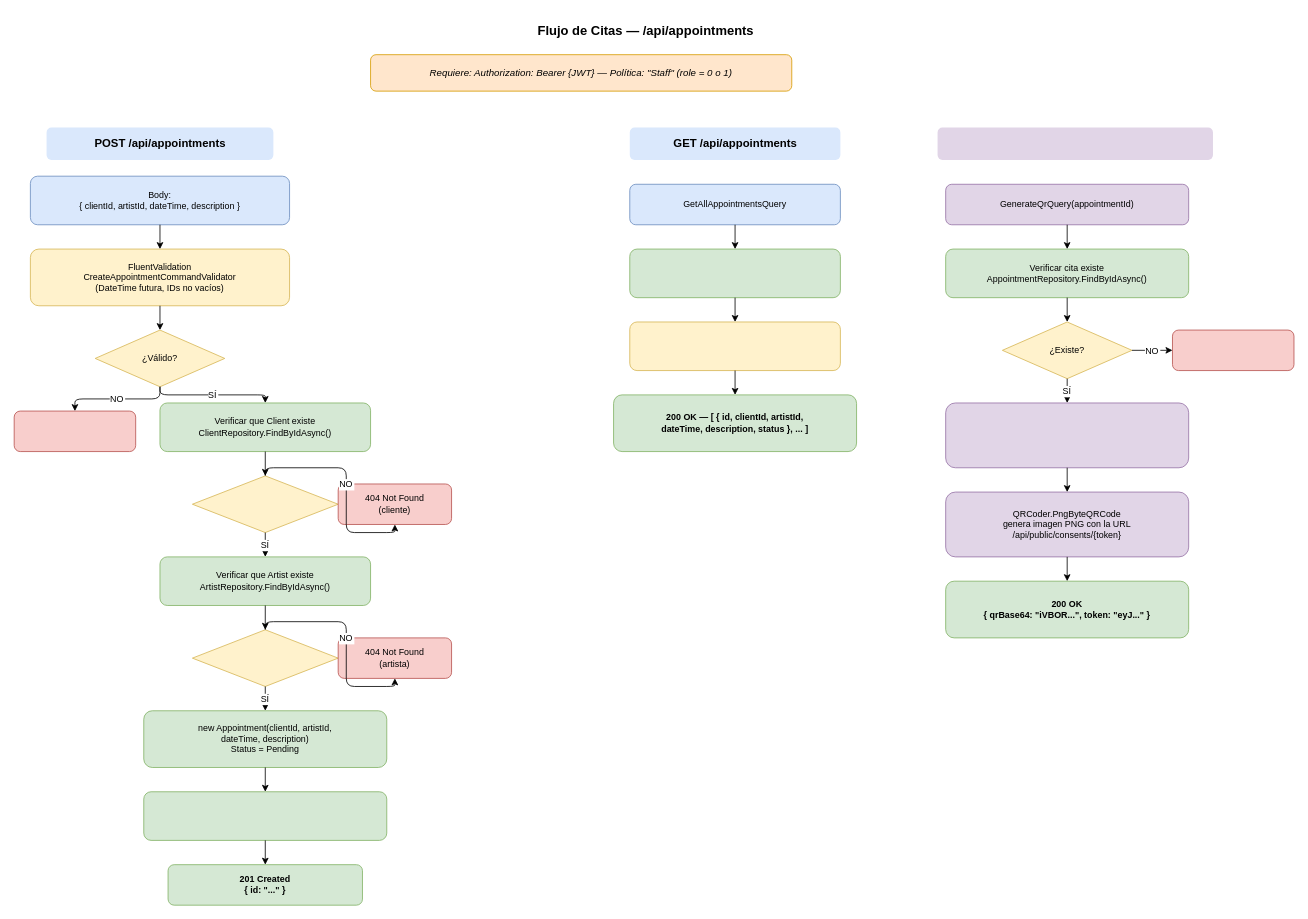
Some shapes in this 1308 by 919 pixel diagram are drawn without their labels. Here are the shapes that lost their labels. From the top down, the centre of each, then its label:
the point at 1075,143: GET /api/appointments/{id}/qr
the point at 734,273: AppointmentRepository.GetAllAsync() SELECT * FROM appointments
the point at 734,346: AutoMapper Appointment → AppointmentDto
the point at 1233,350: 404 Not Found
the point at 74,431: 400 Bad Request
the point at 1067,435: ConsentTokenService GenerateConsentToken(appointmentId) → JWT HS256, exp 30 min
the point at 265,504: ¿Cliente existe?
the point at 265,657: ¿Artista existe?
the point at 265,815: AppointmentRepository.AddAsync() SaveChangesAsync()
